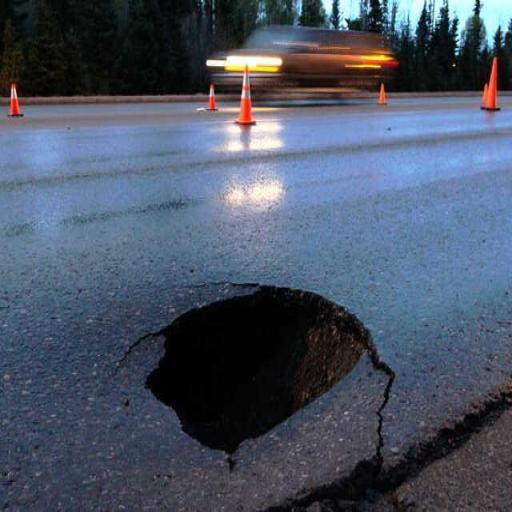Concentric_Crack: (145, 286, 395, 467)
